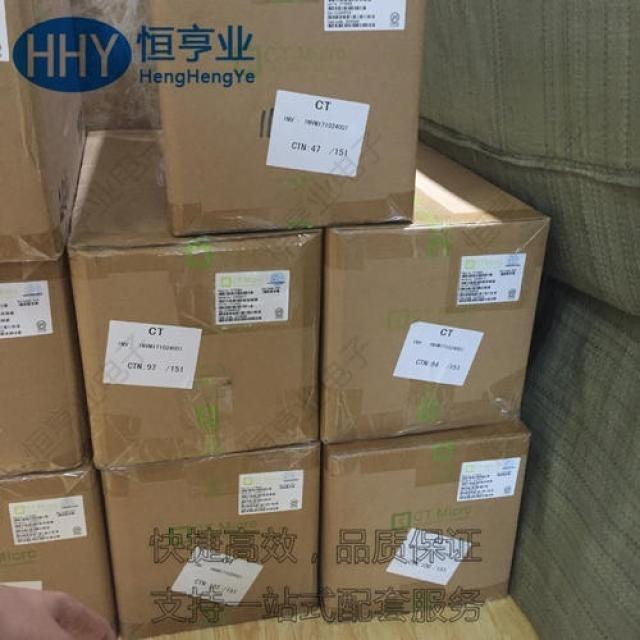box: (0, 1, 426, 264), (320, 137, 553, 443), (63, 229, 321, 475), (99, 445, 323, 636), (321, 419, 532, 614), (0, 260, 95, 477), (3, 472, 116, 630)
